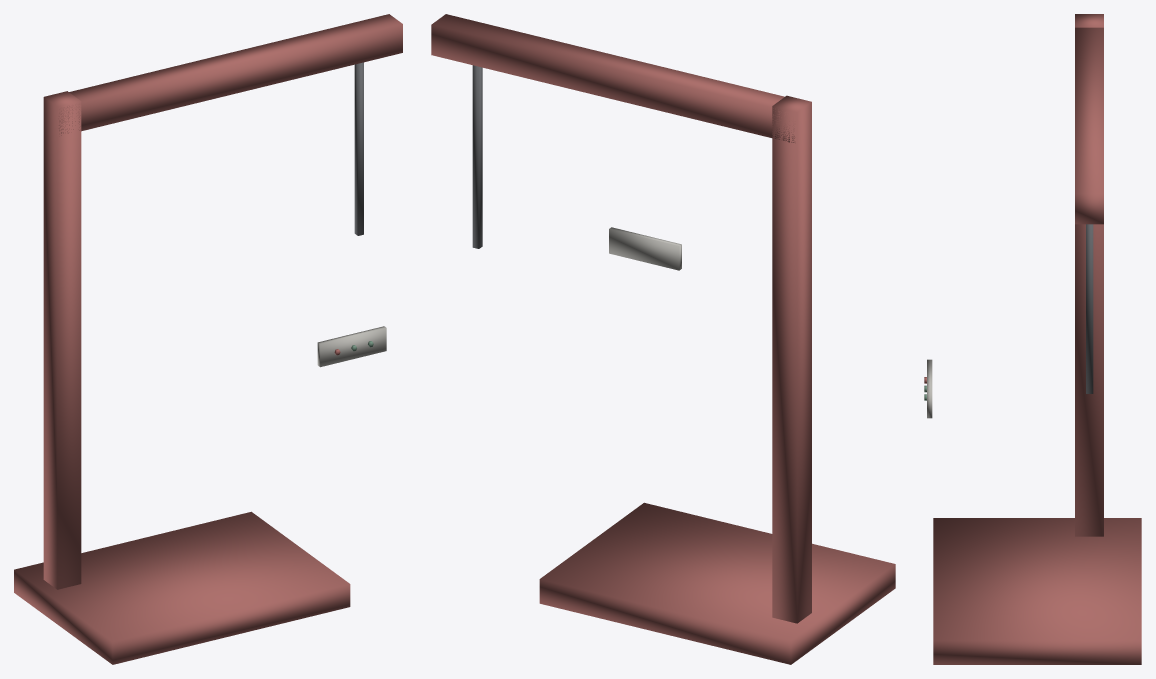
File: chain_hoist__tall.glb
The picture shows the model from 3 angles, left to right: view 1: azimuth 30°, elevation 25°; view 2: azimuth 150°, elevation 25°; view 3: azimuth 270°, elevation 25°; orthographic projection. The views are drawn at different scales.
Parts seen in each view (by area): view 1: world; view 2: world; view 3: world.
Part boxes in pixels (x1,y1,x2,y2): world: (14,14,402,664); world: (431,14,895,664); world: (924,14,1141,664).
Bounding box in the file's own units: 1.5 × 2.04 × 0.751.
